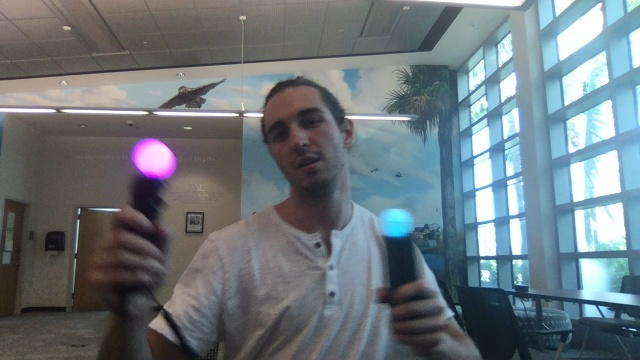wand: (134, 140, 174, 177), (380, 209, 413, 237)
